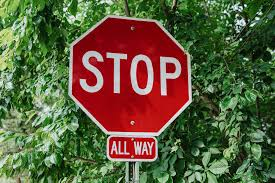stop sign: (70, 15, 192, 135)
